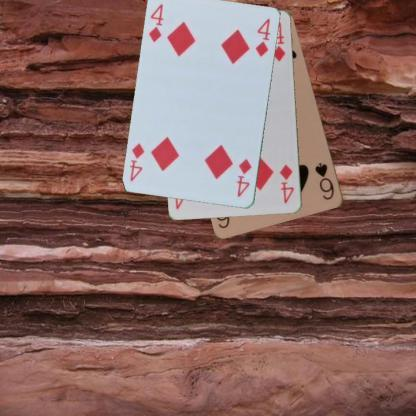4d: (234, 156, 253, 198), (146, 2, 165, 44), (278, 162, 296, 206)
6s: (312, 160, 336, 201)
